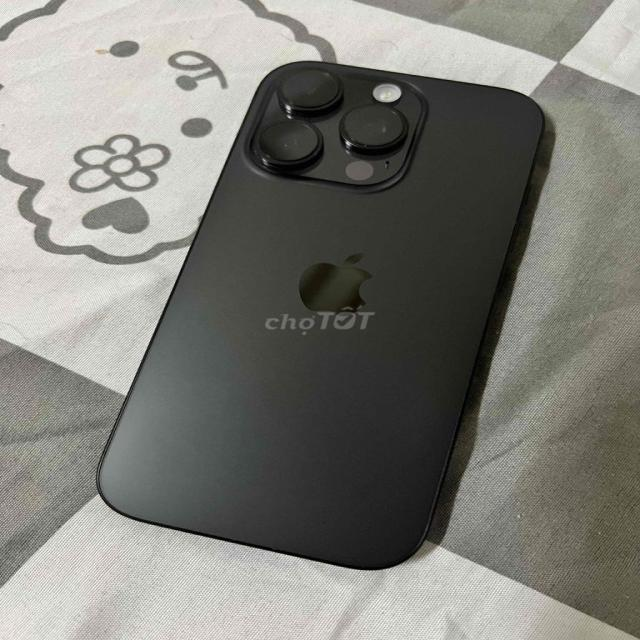gen_16: (93, 52, 549, 569)
